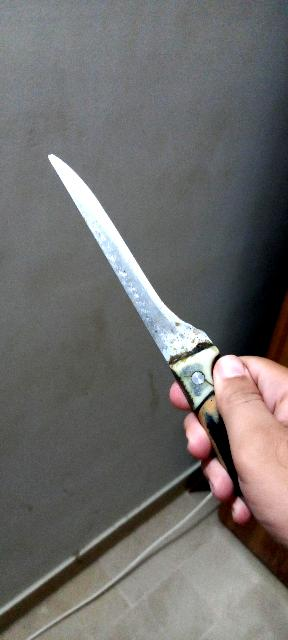long knife: (38, 139, 250, 481)
